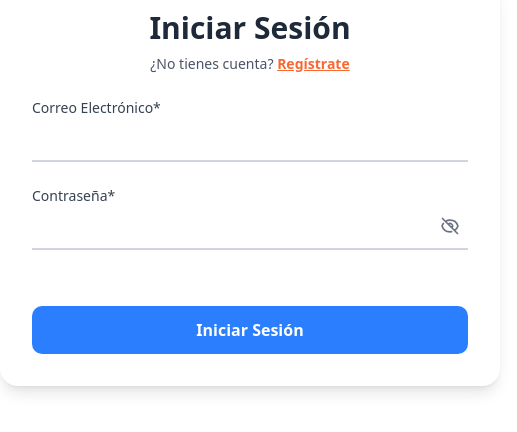
Test: LoginForm › Validaciones de formulario › debe mostrar error si email está vacío
Click the field.
click(250, 141)  # box 32,120 -> 468,162
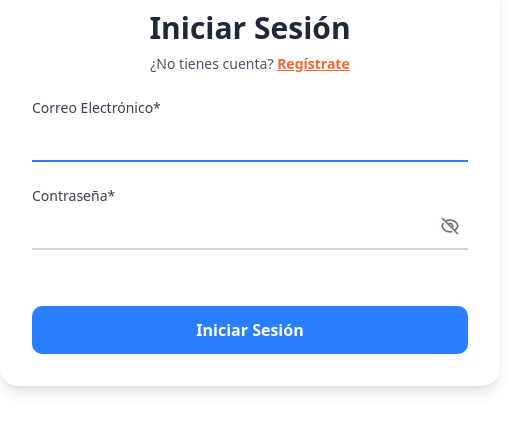
Press Tab
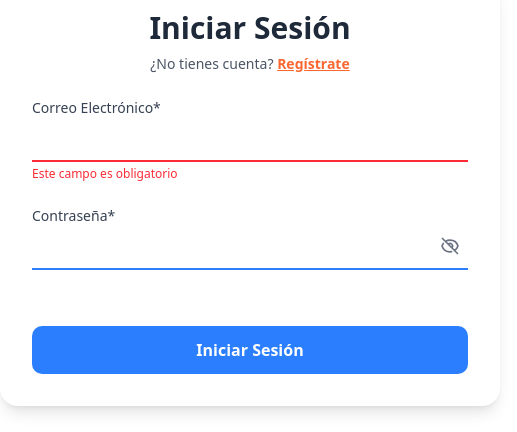
expect the text "Este campo es obligatorio" is shown: met, box 32,165 -> 178,182
